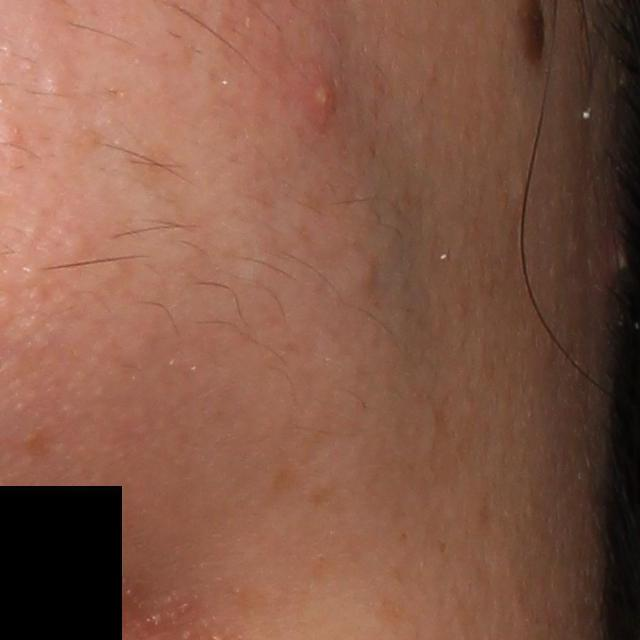comedo: (347, 257, 383, 295)
melasma: (129, 140, 192, 199), (268, 465, 314, 503), (14, 426, 57, 462), (301, 485, 340, 509)
pustule: (300, 73, 336, 120)
